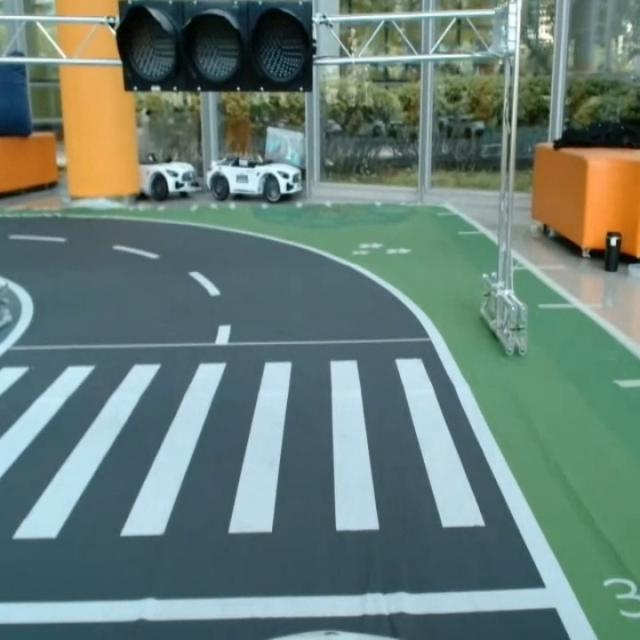traffic-light: (111, 0, 320, 97)
